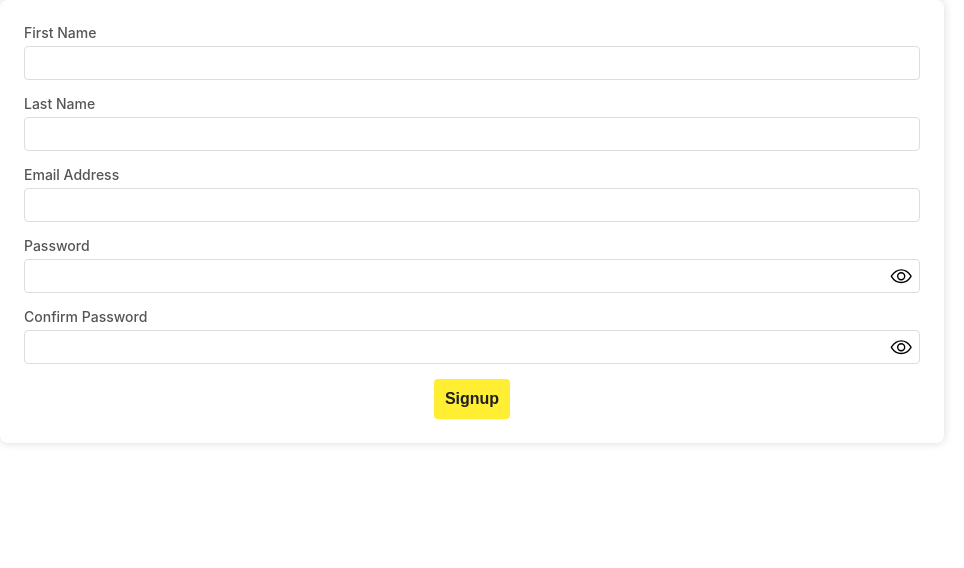
Test case: SignupForm › should show validation errors on invalid input
Click the button "Signup" at (472, 399), box [434,379,510,419]
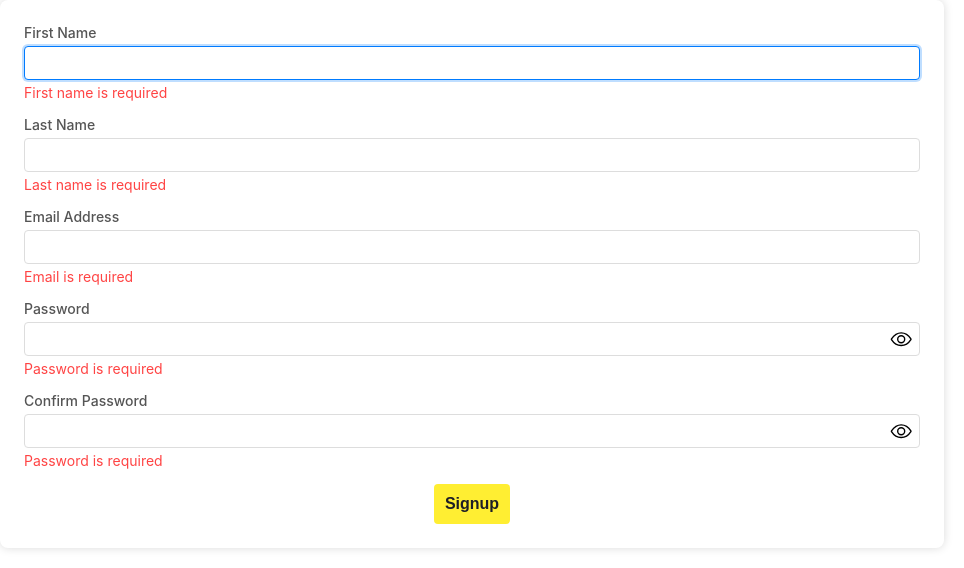
Expected: the text "First name is required" is shown, [24,84,167,101]
Expected: the text "Last name is required" is shown, [24,176,166,193]
Expected: the text "Email is required" is shown, [24,268,133,285]
